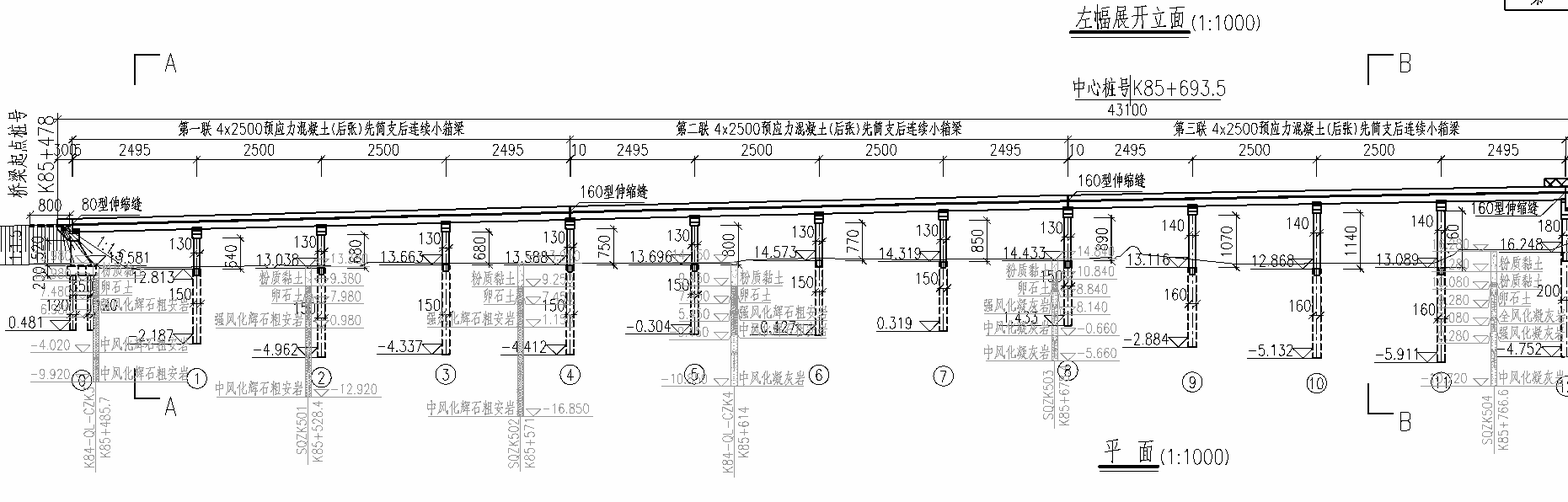C: (1241, 197, 1334, 400), (1367, 195, 1458, 400), (865, 204, 961, 393), (1122, 199, 1210, 398), (748, 206, 836, 389), (371, 215, 462, 390), (623, 210, 711, 387), (254, 219, 340, 399), (501, 212, 587, 391), (1495, 196, 1567, 402), (1014, 202, 1083, 386), (153, 222, 212, 393)
